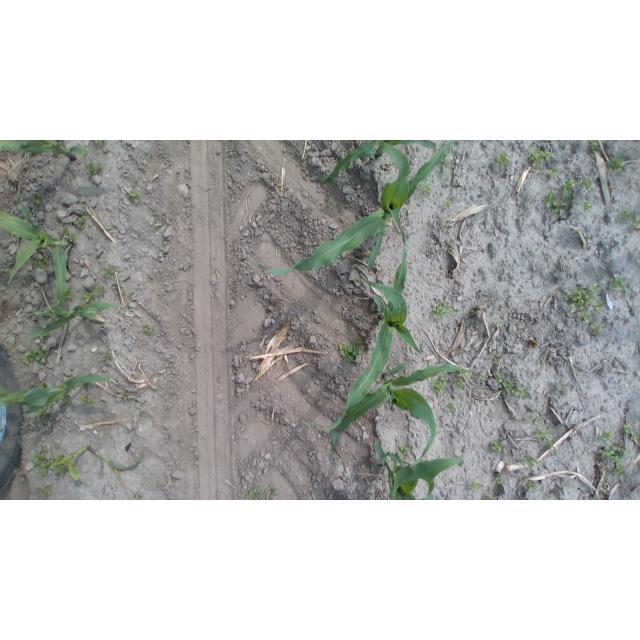Maize: (254, 140, 460, 278), (300, 247, 423, 435), (329, 362, 471, 461), (0, 196, 72, 318), (373, 438, 471, 500), (309, 140, 439, 185), (0, 373, 120, 418), (26, 303, 119, 339), (0, 141, 86, 162)
Weeds: (568, 284, 602, 324), (596, 441, 632, 476), (542, 185, 576, 220), (496, 373, 525, 397), (336, 341, 362, 366), (245, 484, 282, 499), (48, 454, 70, 478), (528, 147, 554, 167), (432, 300, 455, 321), (23, 347, 49, 365), (32, 448, 49, 474), (618, 205, 638, 227), (431, 374, 450, 394), (85, 162, 107, 179), (608, 155, 628, 173), (609, 274, 629, 292), (59, 225, 78, 243), (31, 254, 50, 270), (456, 369, 469, 392), (418, 179, 435, 195), (102, 264, 119, 280), (522, 453, 540, 467), (442, 151, 452, 176), (622, 424, 637, 440), (535, 427, 552, 441), (74, 215, 88, 232), (81, 395, 98, 409), (31, 191, 44, 209), (127, 188, 141, 204), (496, 150, 510, 166), (88, 287, 104, 301), (55, 463, 69, 478), (591, 323, 606, 337), (84, 289, 99, 303), (491, 440, 505, 454), (599, 431, 616, 442), (398, 445, 411, 458), (582, 179, 594, 193), (140, 326, 156, 336), (560, 382, 572, 395), (445, 401, 458, 413), (547, 166, 560, 178), (41, 486, 53, 499), (525, 481, 539, 492), (589, 140, 601, 152), (476, 372, 488, 384), (354, 336, 366, 348), (582, 201, 595, 212), (545, 440, 556, 452), (102, 350, 114, 361), (35, 408, 48, 418), (66, 287, 75, 301), (129, 173, 139, 185), (155, 481, 168, 490), (471, 480, 481, 491), (81, 203, 91, 214), (444, 197, 453, 209), (485, 493, 500, 500), (122, 393, 131, 404), (493, 476, 503, 485), (440, 219, 450, 228), (155, 218, 164, 228), (492, 356, 501, 366), (494, 320, 503, 329), (526, 193, 535, 202), (133, 493, 144, 500), (138, 410, 146, 419), (535, 417, 543, 425), (338, 204, 345, 213), (324, 196, 331, 205), (93, 140, 105, 145), (524, 414, 531, 422)
